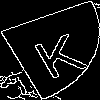K: (25, 25, 90, 80)
